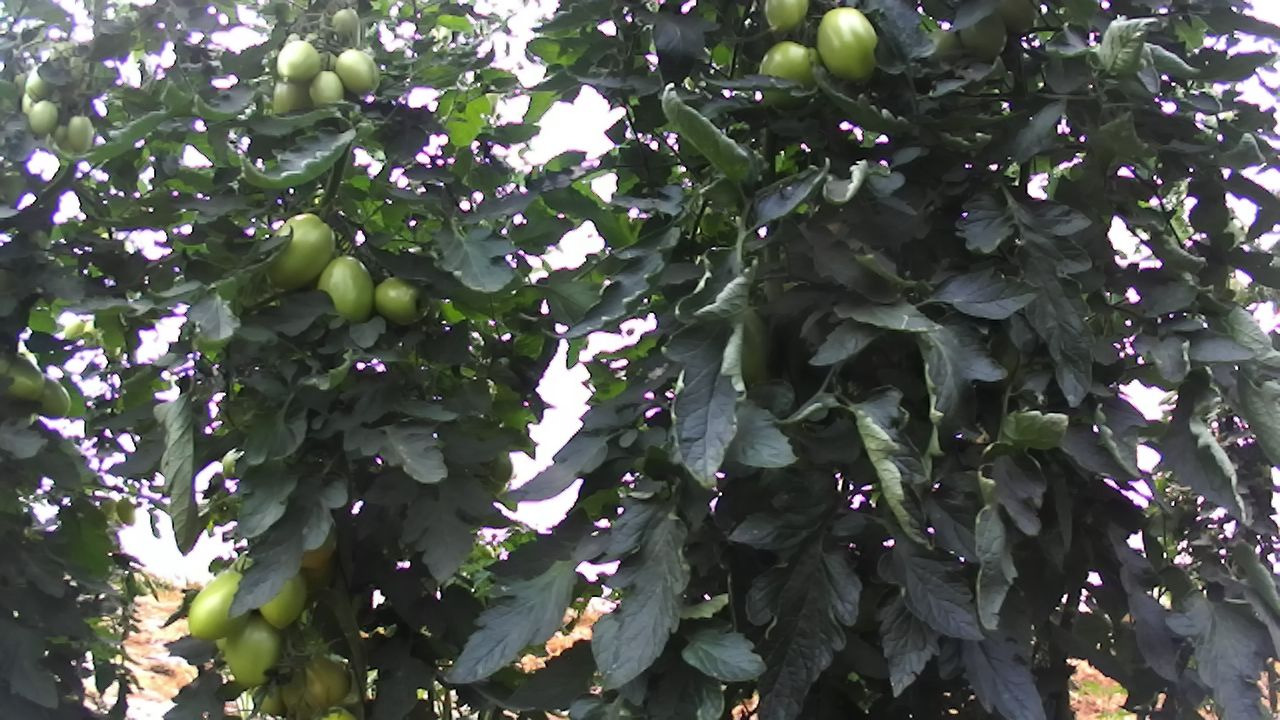tomato: (260, 210, 337, 293), (185, 566, 255, 642), (815, 4, 880, 84), (755, 38, 821, 114), (220, 610, 284, 687), (315, 252, 377, 326), (254, 563, 313, 634), (372, 271, 432, 327), (272, 36, 323, 87), (333, 48, 382, 97), (305, 66, 348, 110), (760, 0, 813, 33), (28, 98, 57, 140), (66, 112, 95, 154), (328, 3, 361, 37)
